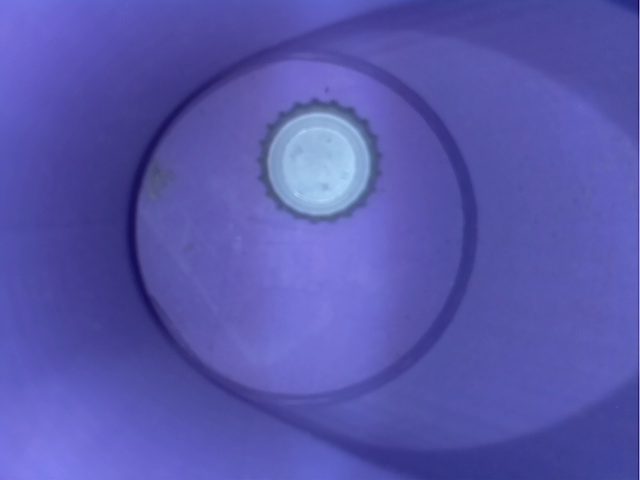capsule: (238, 84, 408, 244)
